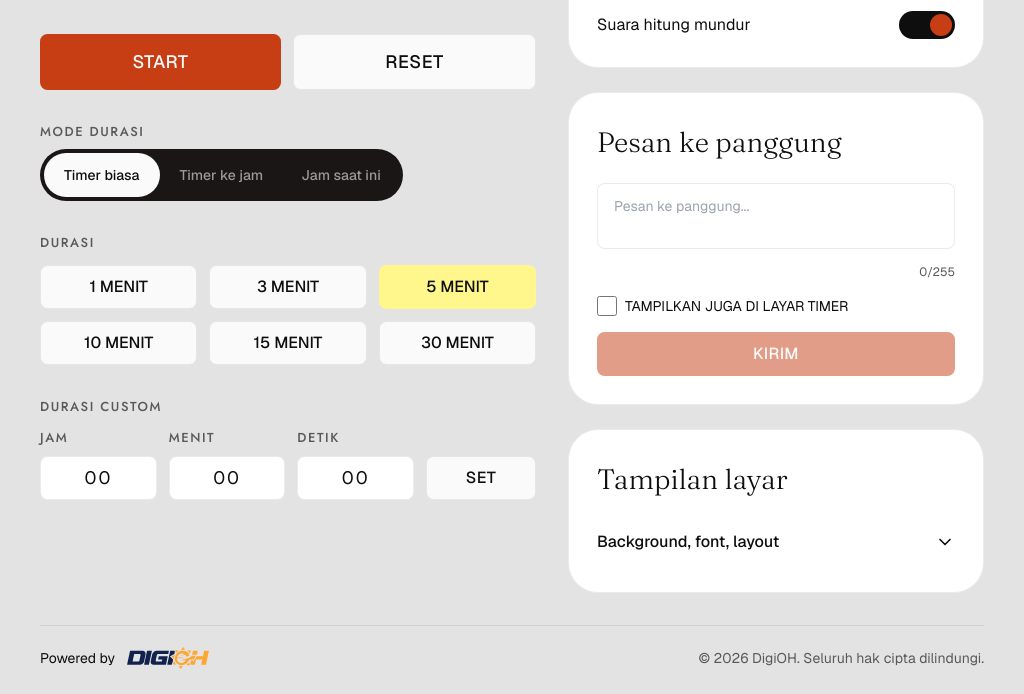
Test case: ControlPage › blur mem-pad 1 digit jadi 2 digit
The width and height of the screenshot is (1024, 694).
(page scrolled)
Replace the text in the field with test id "duration-minutes" with "5": (227, 478) [169,456,285,500]
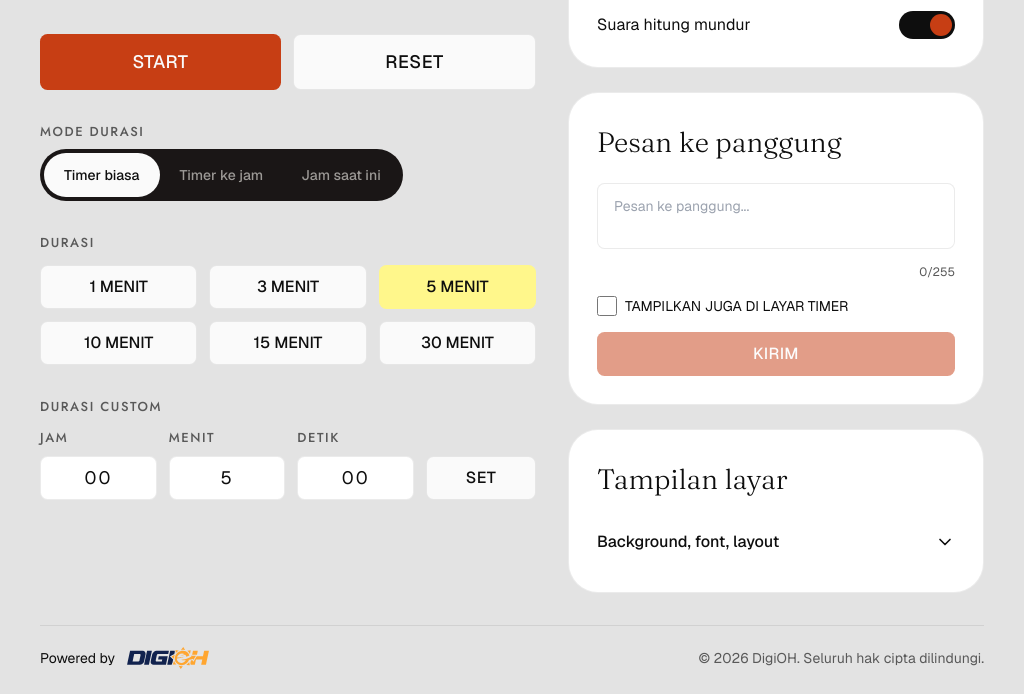
Leave the field with test id "duration-minutes", box [169,456,285,500]
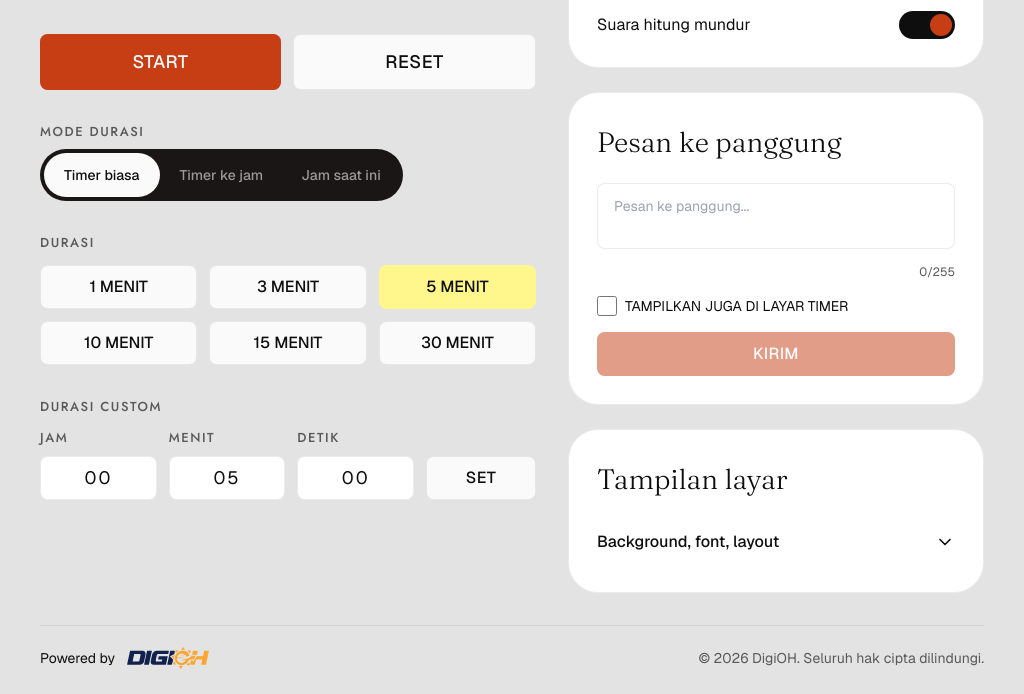
Expected: the field with test id "duration-minutes" holds "05", [169,456,285,500]
